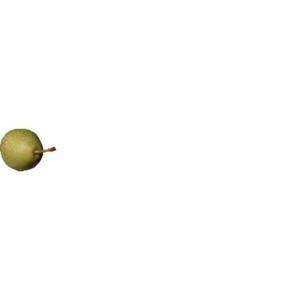pera: (1, 128, 56, 172)
